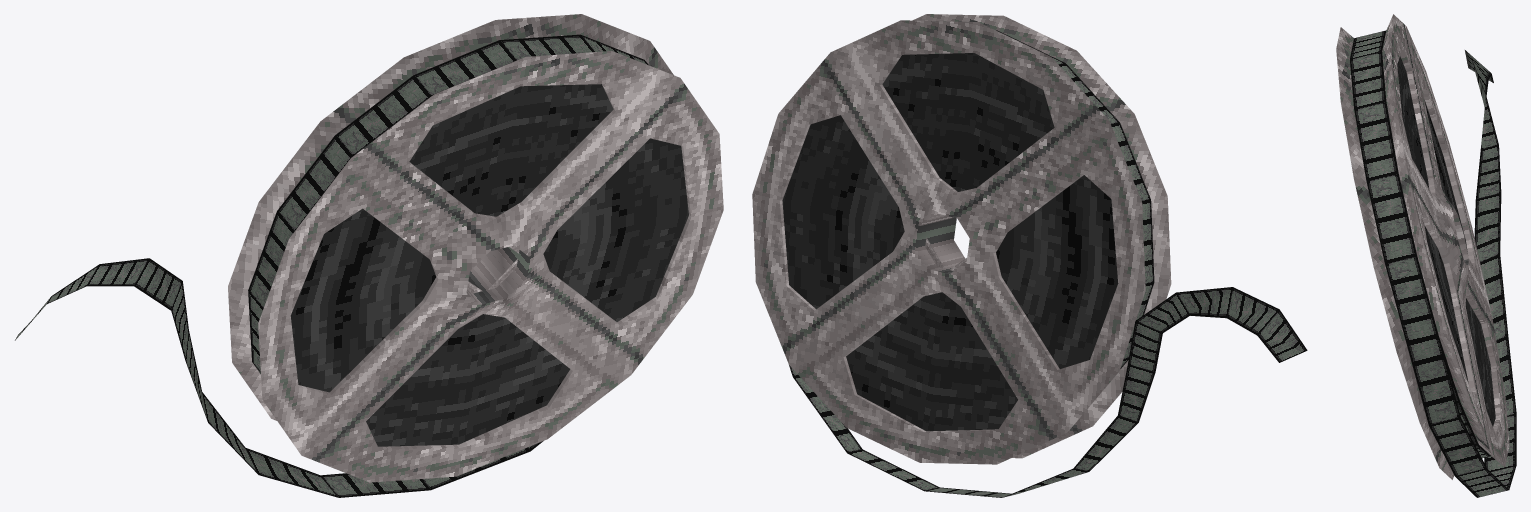
The model's file is ps2_save-icons_warofthemonsters.glb.
3 views of the same model, side by side, from view 1: azimuth 30°, elevation 25°; view 2: azimuth 150°, elevation 25°; view 3: azimuth 270°, elevation 25° (orthographic). The views are drawn at different scales.
Parts seen in each view (by area): view 1: ICON.ICO; view 2: ICON.ICO; view 3: ICON.ICO.
Part boxes in pixels (bbox=[...]): ICON.ICO: bbox=[15, 14, 723, 497]; ICON.ICO: bbox=[752, 14, 1307, 497]; ICON.ICO: bbox=[1336, 14, 1516, 497].
Bounding box in the file's own units: 4.86 × 3.53 × 1.31.
1 material, 1 textured.
